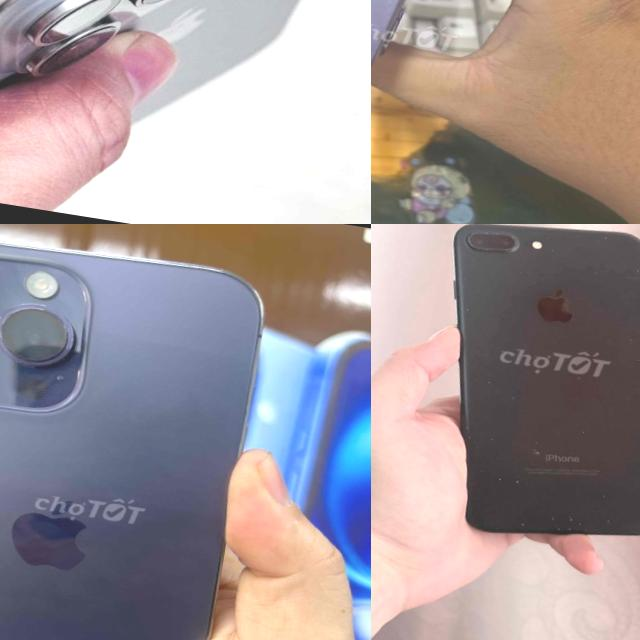gen_12_13: (371, 0, 487, 89)
gen_14: (0, 224, 298, 640)
gen_15: (0, 0, 371, 172)
gen_7_8: (394, 224, 640, 563)
